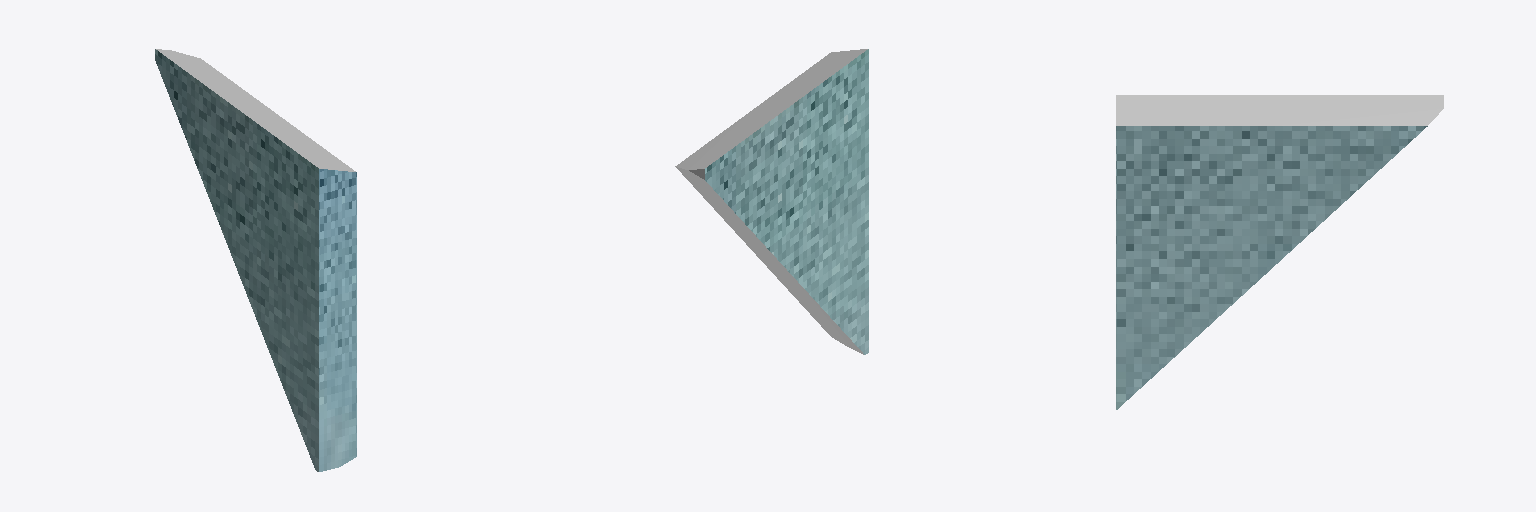
3 renders of one model, left to right at view 1: azimuth 30°, elevation 25°; view 2: azimuth 150°, elevation 25°; view 3: azimuth 270°, elevation 25°, orthographic.
Visible parts, largest first — view 1: Cube_cell.021_Mesh.021; view 2: Cube_cell.021_Mesh.021; view 3: Cube_cell.021_Mesh.021.
Boxes of the visible parts, x1,y1,x2,y2 form: Cube_cell.021_Mesh.021: [155, 49, 356, 471]; Cube_cell.021_Mesh.021: [675, 49, 868, 354]; Cube_cell.021_Mesh.021: [1116, 95, 1443, 409].
Bounding box in the file's own units: 0.0832 × 0.6386 × 0.6239.
2 materials, 1 textured.